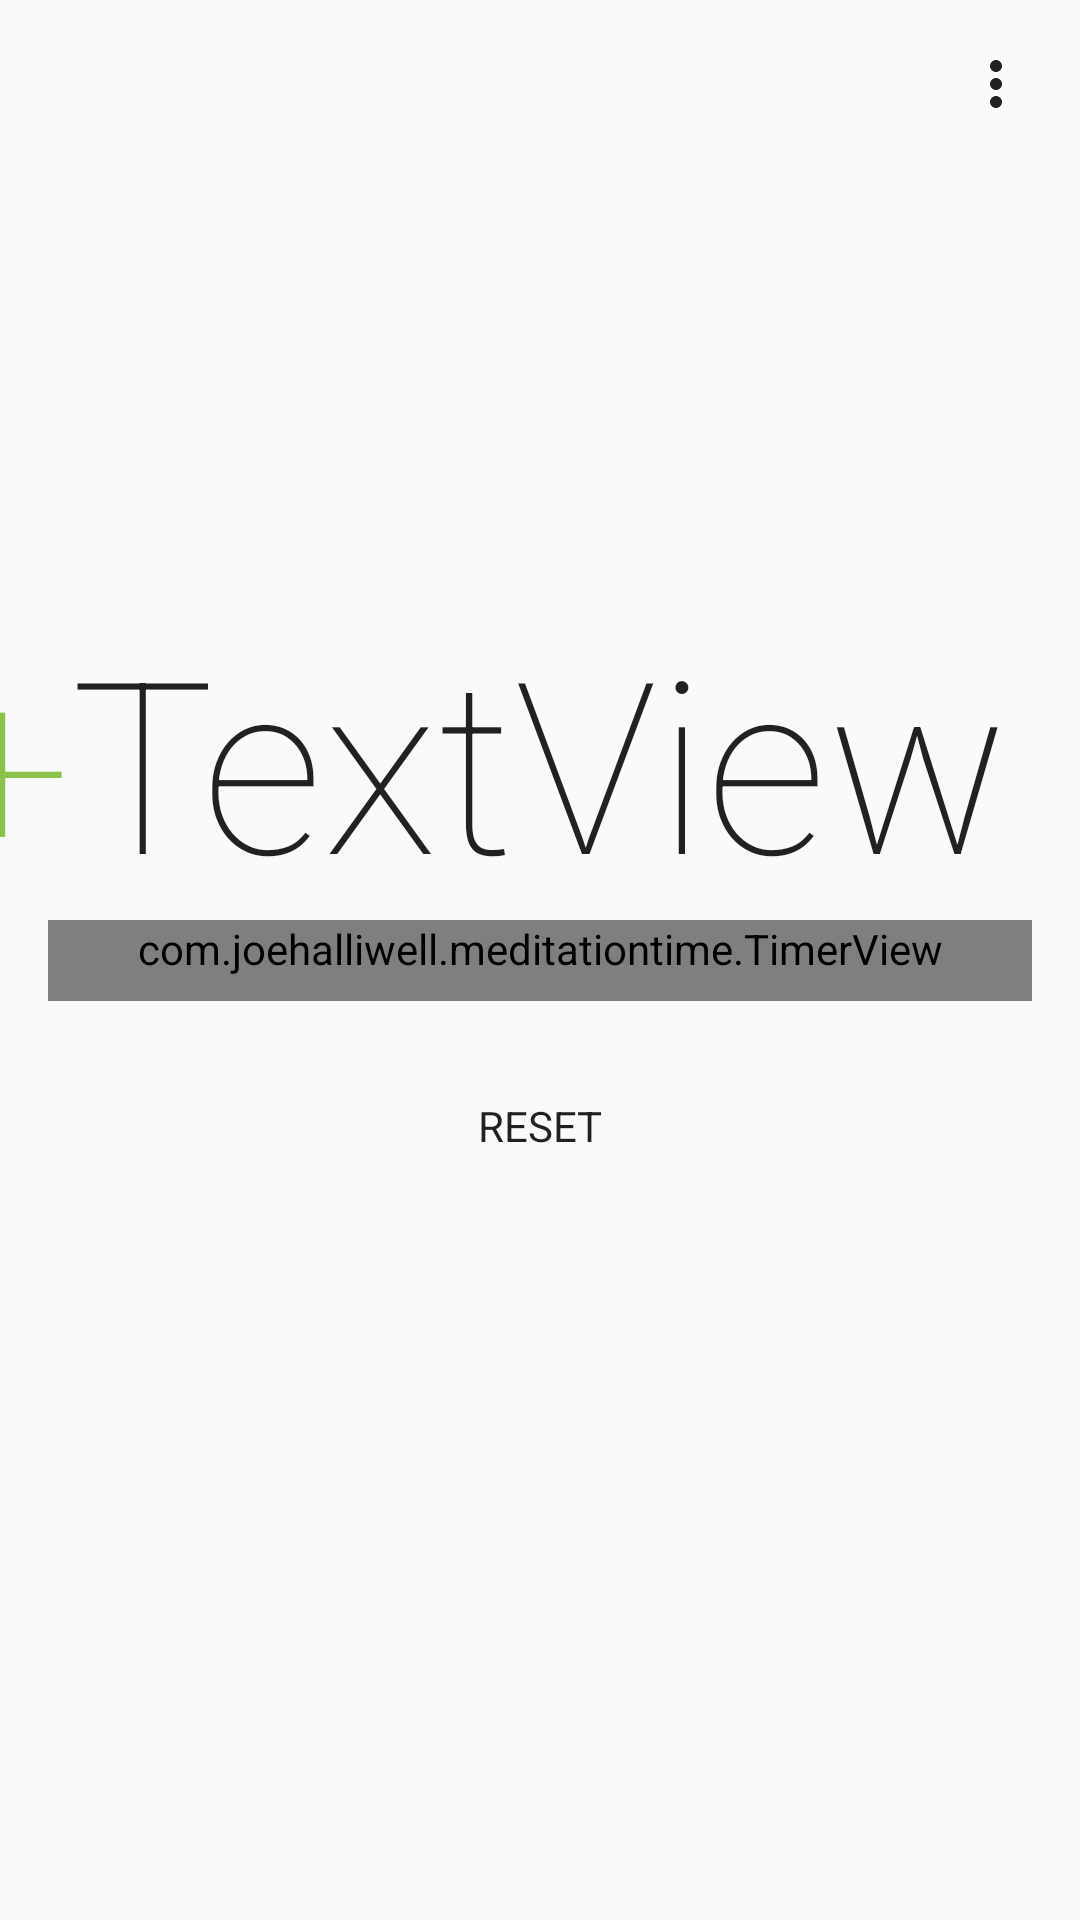

Icon click points for this 1080px×1920px phone screenshot, format [x,y]:
more vert: [996,84]
